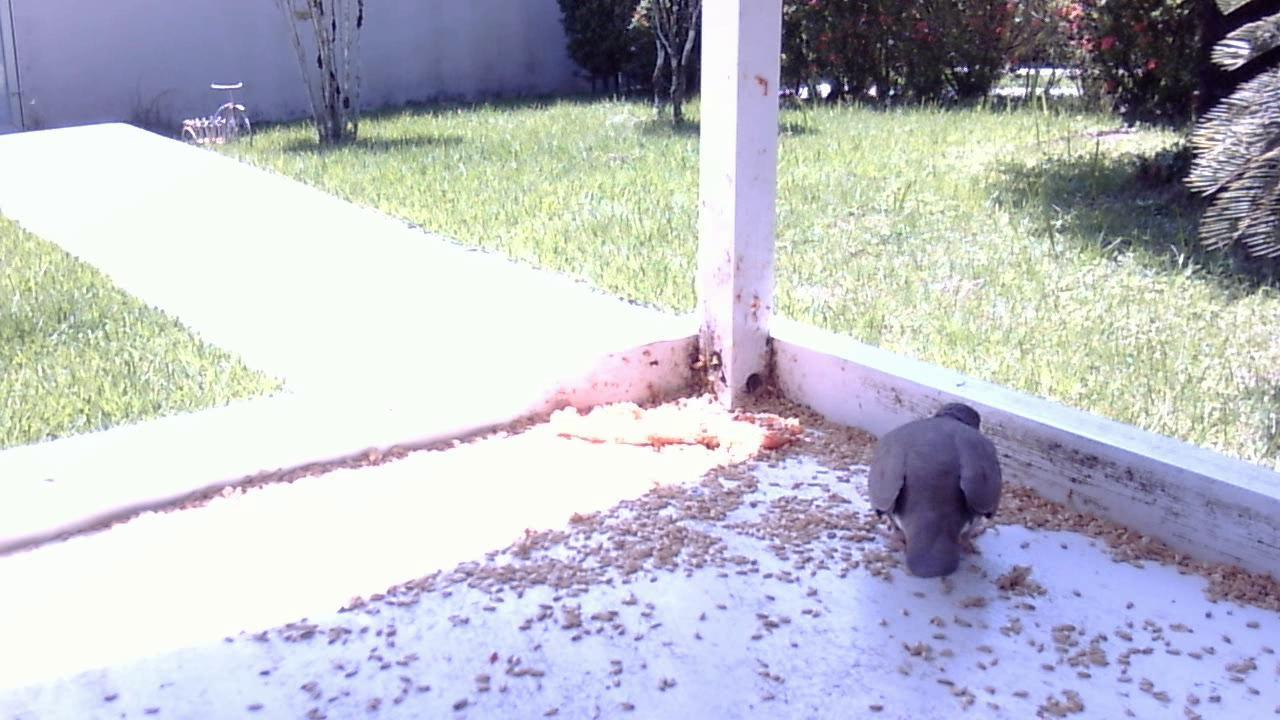rolinha: (860, 397, 1005, 582)
